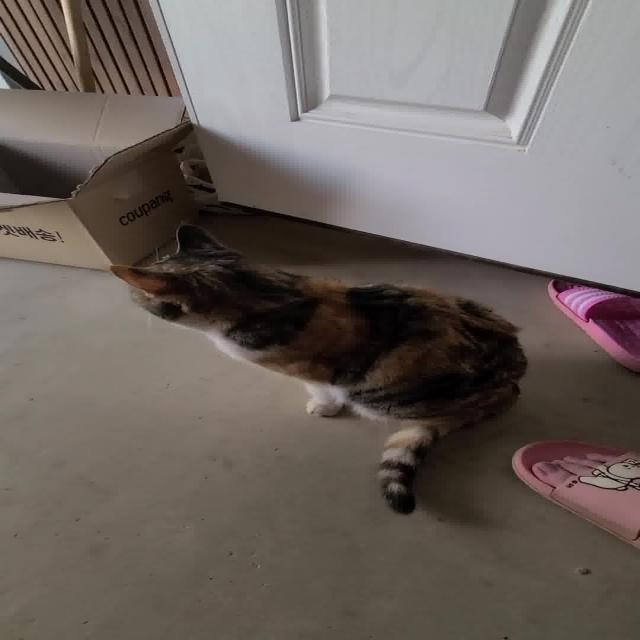cat: (92, 219, 532, 522)
